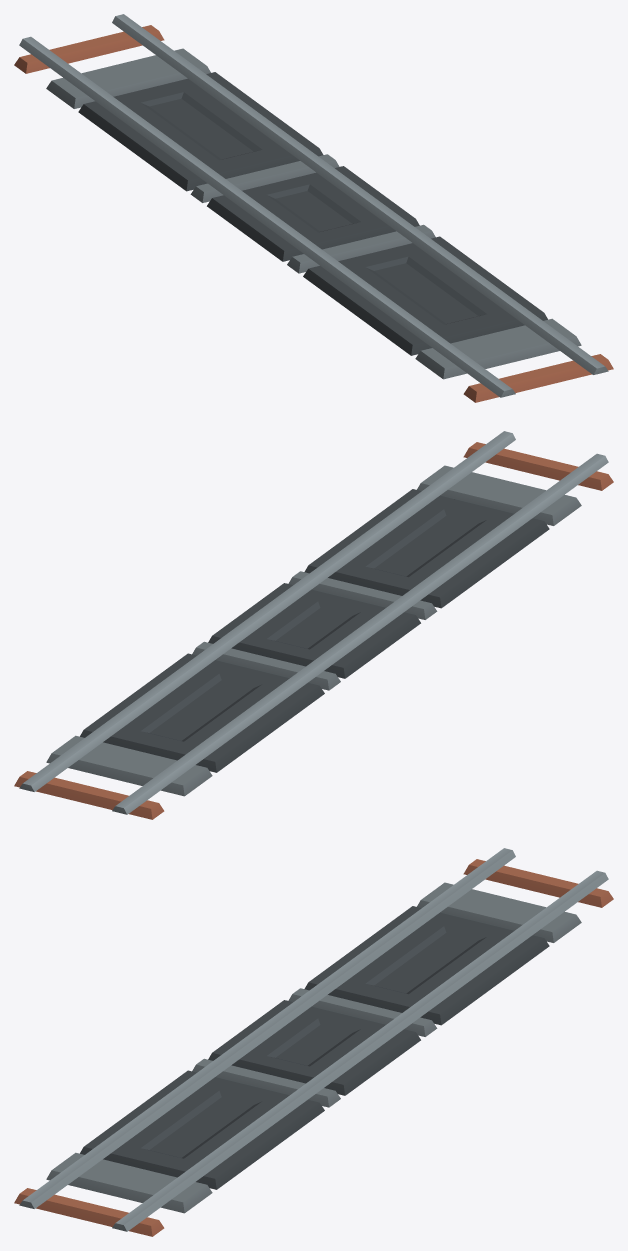
File: tracks_straight_station.fbx
3 views of the same model, one above another, from view 1: azimuth 30°, elevation 25°; view 2: azimuth 150°, elevation 25°; view 3: azimuth 330°, elevation 25° (orthographic).
Visible parts, largest first — view 1: tracks_straight_station; view 2: tracks_straight_station; view 3: tracks_straight_station.
Part boxes in pixels (x1,y1,x2,y2): tracks_straight_station: (14,14,613,402); tracks_straight_station: (14,431,613,819); tracks_straight_station: (14,848,613,1236).
Size of the model in its own units: 0.4985 by 0.05 by 3.
